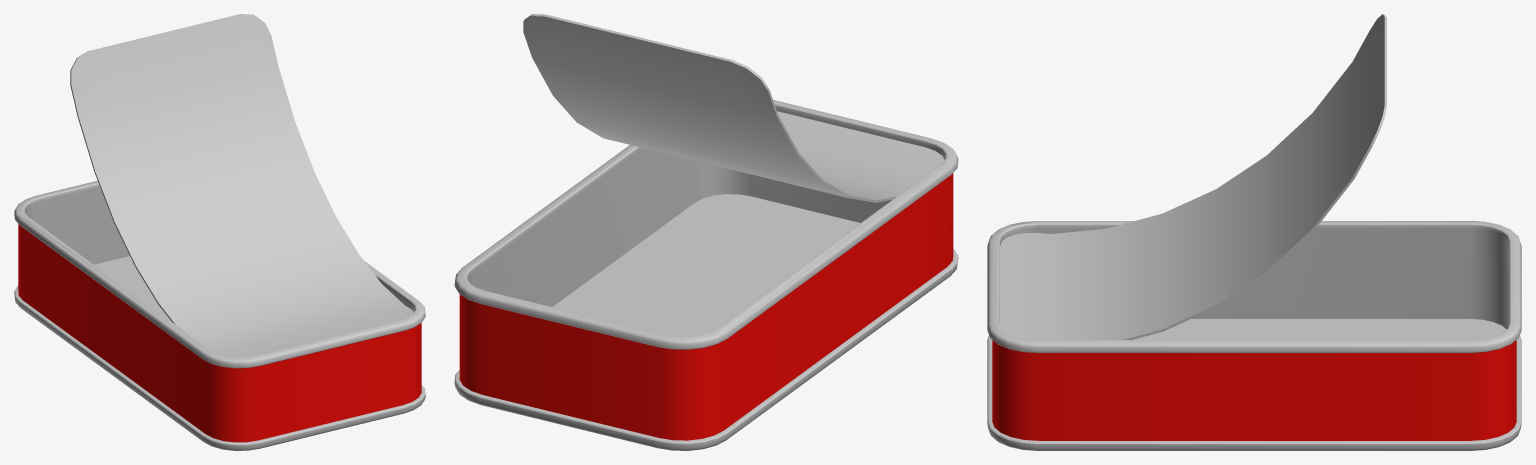
File: Food Can.fbx
3 views of the same model, side by side, from view 1: azimuth 30°, elevation 25°; view 2: azimuth 150°, elevation 25°; view 3: azimuth 270°, elevation 25° (orthographic). The views are drawn at different scales.
Parts seen in each view (by area): view 1: Kaleng Makanan Usang; view 2: Kaleng Makanan Usang; view 3: Kaleng Makanan Usang.
Boxes of the visible parts, x1,y1,x2,y2 form: Kaleng Makanan Usang: [14, 14, 425, 450]; Kaleng Makanan Usang: [454, 14, 958, 450]; Kaleng Makanan Usang: [987, 14, 1521, 450].
Size of the model in its own units: 114 by 138 by 204.
